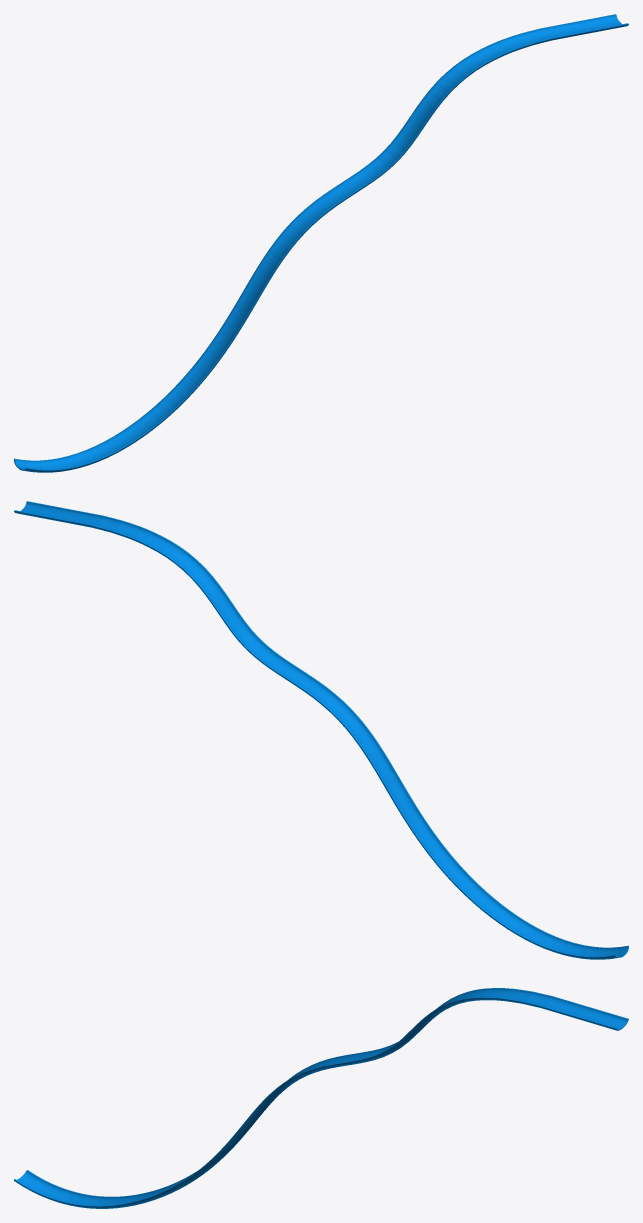
The model's file is slideWater2.fbx.
The picture shows the model from 3 angles, top to bottom: view 1: azimuth 30°, elevation 25°; view 2: azimuth 150°, elevation 25°; view 3: azimuth 330°, elevation 25°; orthographic projection.
Parts seen in each view (by area): view 1: Cylinder; view 2: Cylinder; view 3: Cylinder.
Boxes of the visible parts, <box> form: Cylinder: <box>14,14,628,472</box>; Cylinder: <box>14,501,628,959</box>; Cylinder: <box>14,988,628,1208</box>.
Bounding box in the file's own units: 12704 × 6395 × 488.
